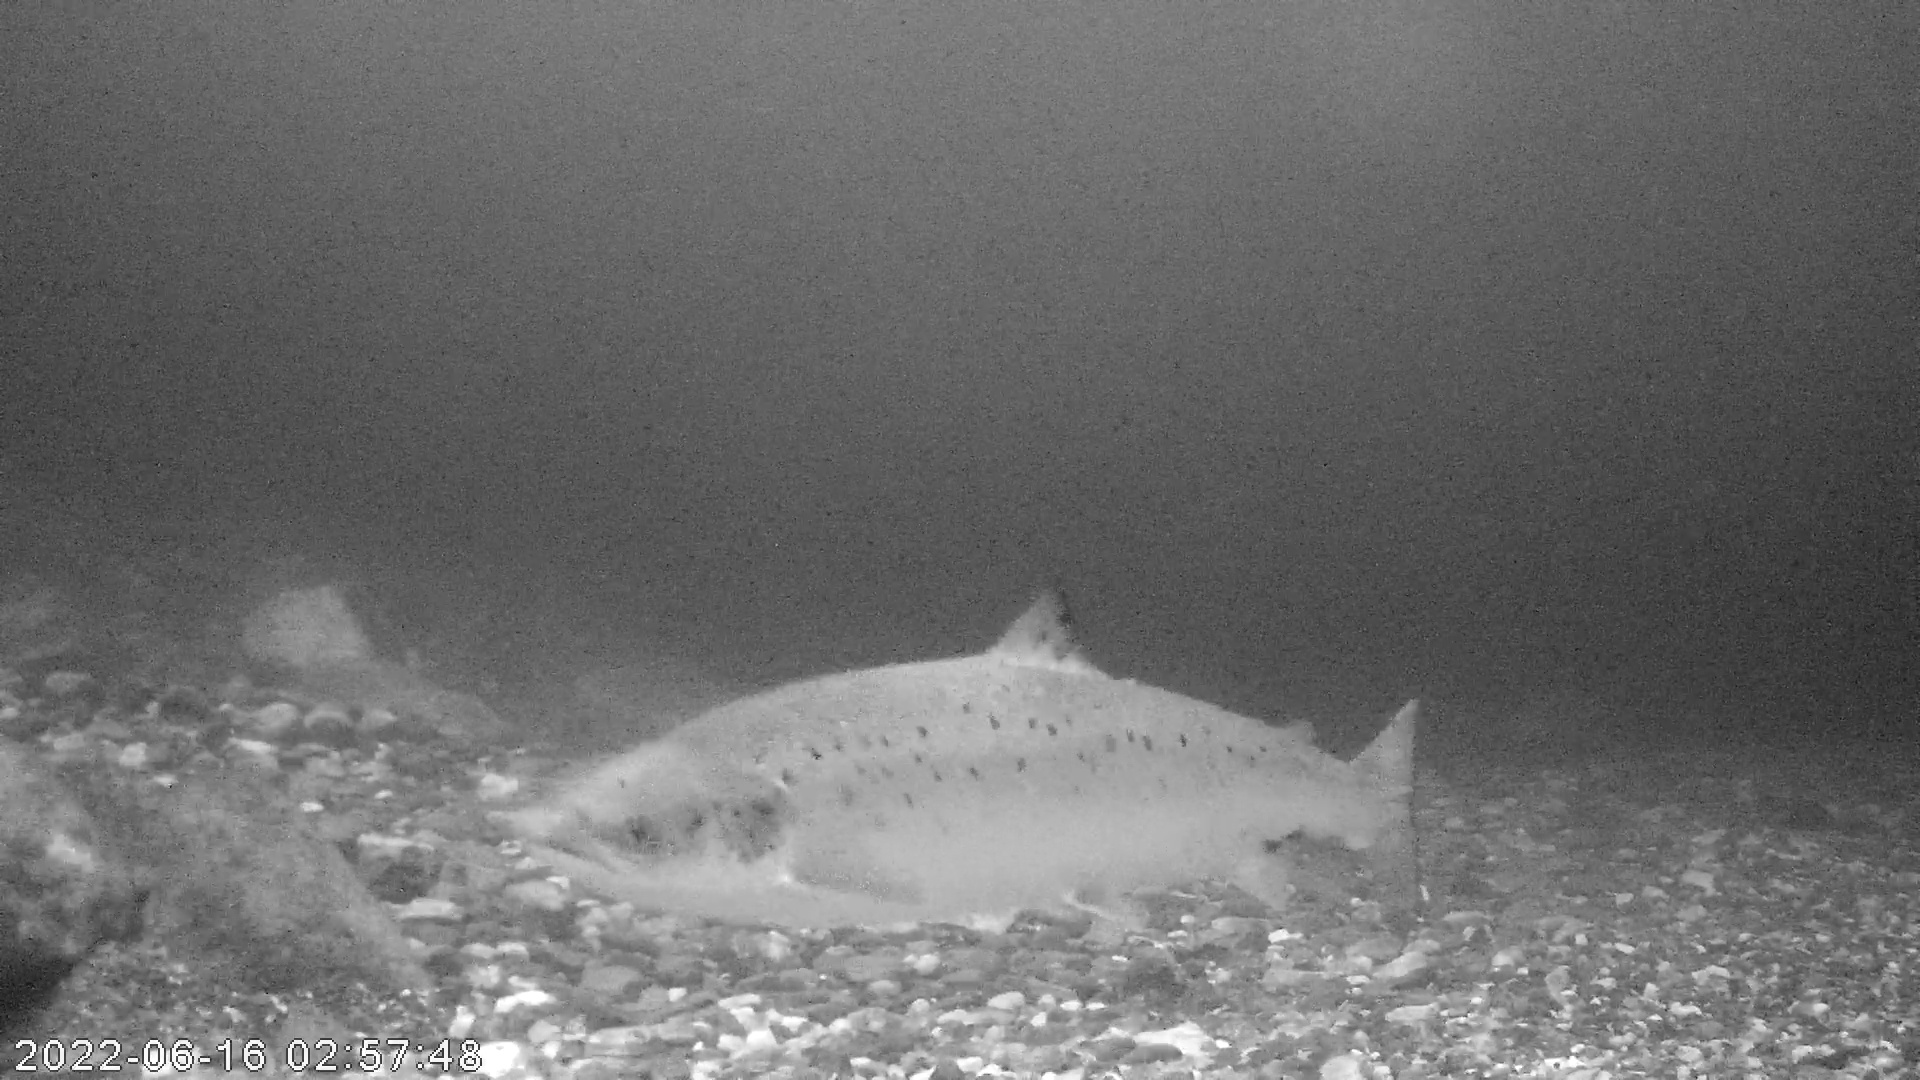salmon: (512, 580, 1424, 935)
